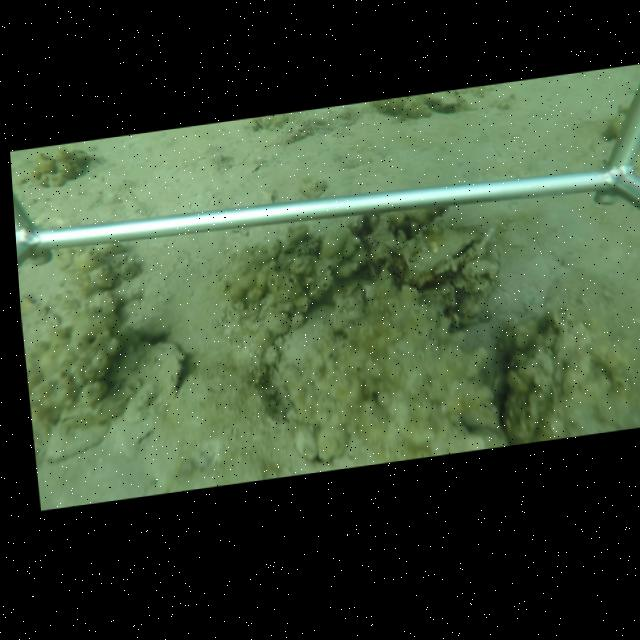Oyster-Closed: (282, 239, 320, 269)
Oyster-Indeterminate: (112, 344, 185, 451)
Oyster-Open: (405, 223, 496, 284)
